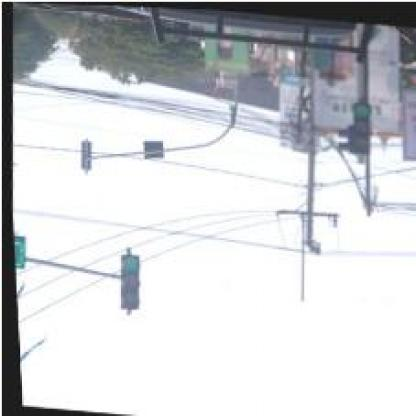green: (111, 250, 138, 311), (350, 98, 372, 151)
